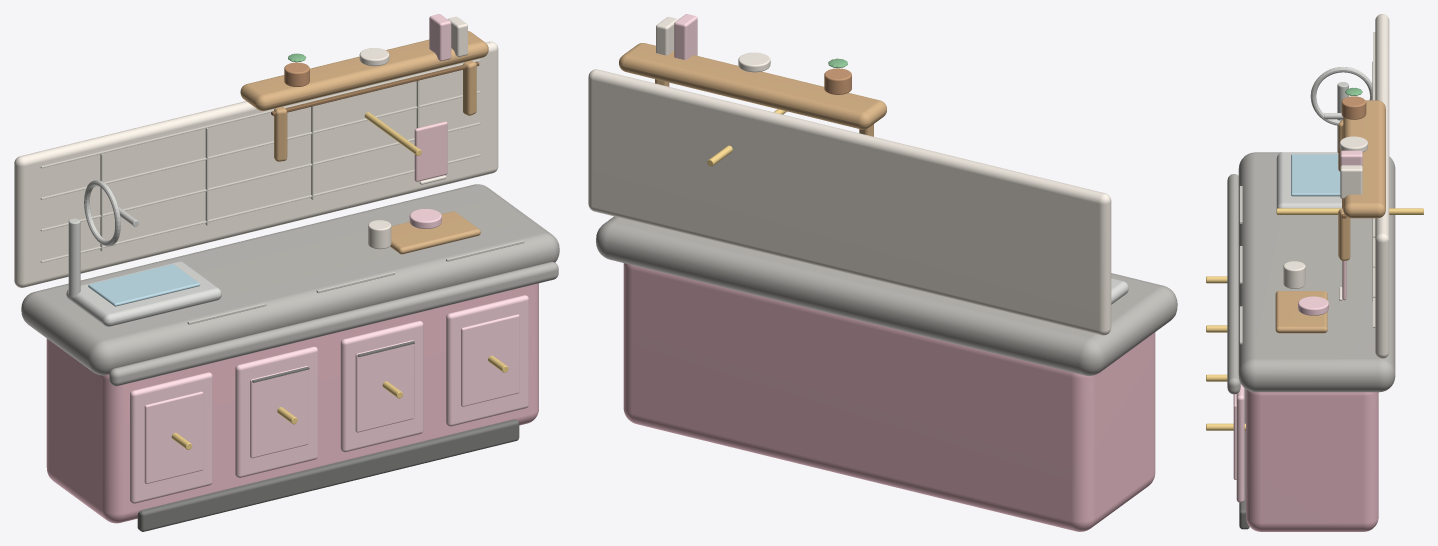
File: 目标图高级灰台面粉柜厨房.fbx
3 views of the same model, side by side, from view 1: azimuth 30°, elevation 25°; view 2: azimuth 150°, elevation 25°; view 3: azimuth 270°, elevation 25° (orthographic). The views are drawn at different scales.
Visible parts, largest first — view 1: 目标图高级灰台面粉柜厨房_v351_一体奶油小砖防溅墙, 目标图高级灰台面粉柜厨房_v351_圆角整块灰色台面, 目标图高级灰台面粉柜厨房_v351_粉柜整体现代柜体, 目标图高级灰台面粉柜厨房_v351_内退深灰踢脚影, 目标图高级灰台面粉柜厨房_v351_台面前缘厚圆角, 目标图高级灰台面粉柜厨房_v351_原木厚搁板, 目标图高级灰台面粉柜厨房_v351_厚圆角粉色柜门.002, 目标图高级灰台面粉柜厨房_v351_厚圆角粉色柜门, 目标图高级灰台面粉柜厨房_v351_厚圆角粉色柜门.003, 目标图高级灰台面粉柜厨房_v351_厚圆角粉色柜门.001, 目标图高级灰台面粉柜厨房_v351_柜门内嵌柔亮框, 目标图高级灰台面粉柜厨房_v351_柜门内嵌柔亮框.003 (+17 smaller); view 2: 目标图高级灰台面粉柜厨房_v351_粉柜整体现代柜体, 目标图高级灰台面粉柜厨房_v351_一体奶油小砖防溅墙, 目标图高级灰台面粉柜厨房_v351_圆角整块灰色台面, 目标图高级灰台面粉柜厨房_v351_原木厚搁板, 目标图高级灰台面粉柜厨房_v351_搁板柔粉小书, 目标图高级灰台面粉柜厨房_v351_搁板陶土花盆; view 3: 目标图高级灰台面粉柜厨房_v351_圆角整块灰色台面, 目标图高级灰台面粉柜厨房_v351_粉柜整体现代柜体, 目标图高级灰台面粉柜厨房_v351_一体奶油小砖防溅墙, 目标图高级灰台面粉柜厨房_v351_原木厚搁板, 目标图高级灰台面粉柜厨房_v351_台面前缘厚圆角, 目标图高级灰台面粉柜厨房_v351_柔蓝水面, 目标图高级灰台面粉柜厨房_v351_浅木托盘, 目标图高级灰台面粉柜厨房_v351_嵌入式金属水槽外沿, 目标图高级灰台面粉柜厨房_v351_厚圆角粉色柜门.003, 目标图高级灰台面粉柜厨房_v351_弧形水龙头, 目标图高级灰台面粉柜厨房_v351_搁板奶油小书, 目标图高级灰台面粉柜厨房_v351_高级金色细拉手挂杆 (+9 smaller).
Part boxes in pixels (bbox=[...]): 目标图高级灰台面粉柜厨房_v351_一体奶油小砖防溅墙: bbox=[14, 41, 498, 287]; 目标图高级灰台面粉柜厨房_v351_圆角整块灰色台面: bbox=[21, 184, 559, 375]; 目标图高级灰台面粉柜厨房_v351_粉柜整体现代柜体: bbox=[46, 283, 538, 523]; 目标图高级灰台面粉柜厨房_v351_内退深灰踢脚影: bbox=[137, 419, 519, 531]; 目标图高级灰台面粉柜厨房_v351_台面前缘厚圆角: bbox=[109, 262, 558, 386]; 目标图高级灰台面粉柜厨房_v351_原木厚搁板: bbox=[240, 31, 488, 110]; 目标图高级灰台面粉柜厨房_v351_厚圆角粉色柜门.002: bbox=[340, 321, 423, 452]; 目标图高级灰台面粉柜厨房_v351_厚圆角粉色柜门: bbox=[130, 372, 212, 503]; 目标图高级灰台面粉柜厨房_v351_厚圆角粉色柜门.003: bbox=[446, 295, 528, 426]; 目标图高级灰台面粉柜厨房_v351_厚圆角粉色柜门.001: bbox=[235, 346, 317, 477]; 目标图高级灰台面粉柜厨房_v351_柜门内嵌柔亮框: bbox=[144, 391, 203, 483]; 目标图高级灰台面粉柜厨房_v351_柜门内嵌柔亮框.003: bbox=[461, 314, 519, 406]; 目标图高级灰台面粉柜厨房_v351_粉柜整体现代柜体: bbox=[623, 263, 1155, 531]; 目标图高级灰台面粉柜厨房_v351_一体奶油小砖防溅墙: bbox=[588, 69, 1111, 335]; 目标图高级灰台面粉柜厨房_v351_圆角整块灰色台面: bbox=[596, 216, 1177, 375]; 目标图高级灰台面粉柜厨房_v351_原木厚搁板: bbox=[619, 43, 886, 129]; 目标图高级灰台面粉柜厨房_v351_搁板柔粉小书: bbox=[674, 14, 697, 59]; 目标图高级灰台面粉柜厨房_v351_搁板陶土花盆: bbox=[824, 68, 851, 94]; 目标图高级灰台面粉柜厨房_v351_圆角整块灰色台面: bbox=[1238, 152, 1395, 392]; 目标图高级灰台面粉柜厨房_v351_粉柜整体现代柜体: bbox=[1246, 389, 1378, 531]; 目标图高级灰台面粉柜厨房_v351_一体奶油小砖防溅墙: bbox=[1375, 14, 1389, 358]; 目标图高级灰台面粉柜厨房_v351_原木厚搁板: bbox=[1343, 100, 1385, 218]; 目标图高级灰台面粉柜厨房_v351_台面前缘厚圆角: bbox=[1227, 174, 1240, 394]; 目标图高级灰台面粉柜厨房_v351_柔蓝水面: bbox=[1291, 154, 1340, 196]; 目标图高级灰台面粉柜厨房_v351_浅木托盘: bbox=[1275, 291, 1327, 333]; 目标图高级灰台面粉柜厨房_v351_嵌入式金属水槽外沿: bbox=[1276, 152, 1341, 208]; 目标图高级灰台面粉柜厨房_v351_厚圆角粉色柜门.003: bbox=[1236, 384, 1244, 502]; 目标图高级灰台面粉柜厨房_v351_弧形水龙头: bbox=[1310, 67, 1372, 125]; 目标图高级灰台面粉柜厨房_v351_搁板奶油小书: bbox=[1340, 165, 1362, 198]; 目标图高级灰台面粉柜厨房_v351_高级金色细拉手挂杆: bbox=[1276, 208, 1423, 214].
Bounding box in the file's own units: 224 × 171 × 91.75.
